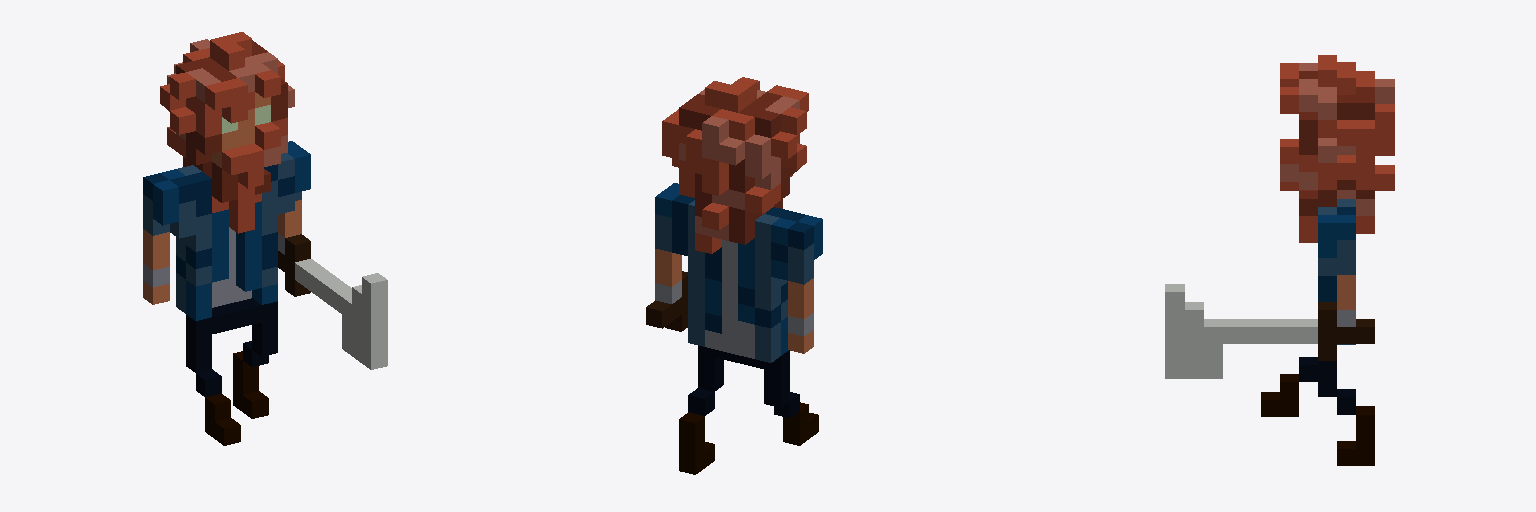
The picture shows the model from 3 angles: view 1: azimuth 30°, elevation 25°; view 2: azimuth 150°, elevation 25°; view 3: azimuth 270°, elevation 25°; orthographic projection.
Visible parts, largest first — view 1: SwingingAxeManChar-4; view 2: SwingingAxeManChar-4; view 3: SwingingAxeManChar-4.
Part boxes in pixels (x1,y1,x2,y2): SwingingAxeManChar-4: (143, 32, 387, 445); SwingingAxeManChar-4: (646, 77, 822, 474); SwingingAxeManChar-4: (1165, 55, 1394, 465).
Size of the model in its own units: 9 by 22 by 12.
1 materials, 1 textured.